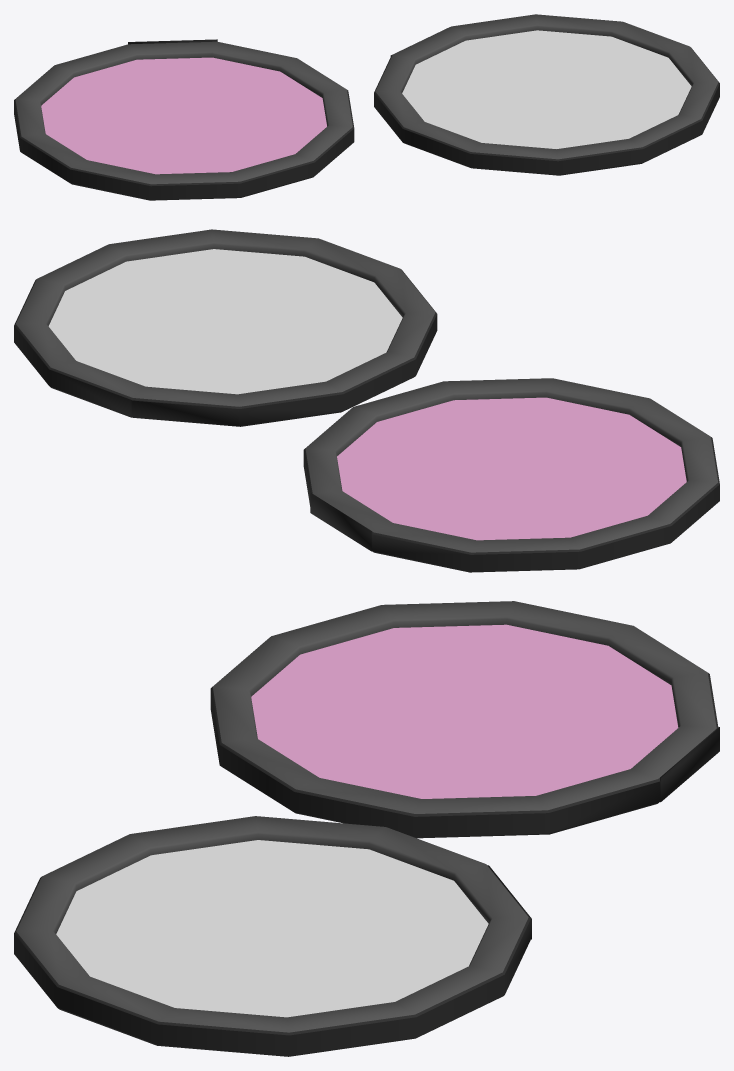
The model's file is Maquiagem_Blush_Ruim.fbx.
3 views of the same model, one above another, from view 1: azimuth 30°, elevation 25°; view 2: azimuth 150°, elevation 25°; view 3: azimuth 270°, elevation 25° (orthographic). The views are drawn at different scales.
Visible parts, largest first — view 1: Maquiagem_Blush_Ruim; view 2: Maquiagem_Blush_Ruim; view 3: Maquiagem_Blush_Ruim.
Boxes of the visible parts, left/top/right/bottom form: Maquiagem_Blush_Ruim: left=14, top=14, right=719, bottom=200; Maquiagem_Blush_Ruim: left=14, top=229, right=719, bottom=572; Maquiagem_Blush_Ruim: left=14, top=601, right=719, bottom=1056.
Size of the model in its own units: 40.2 by 1.13 by 27.63.
